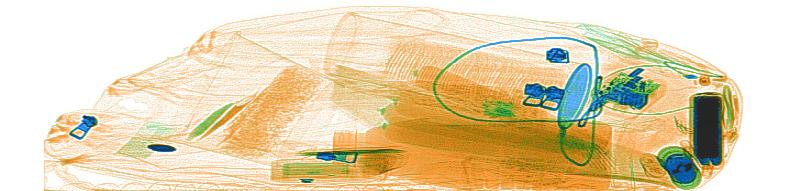battery: (662, 150, 699, 185)
